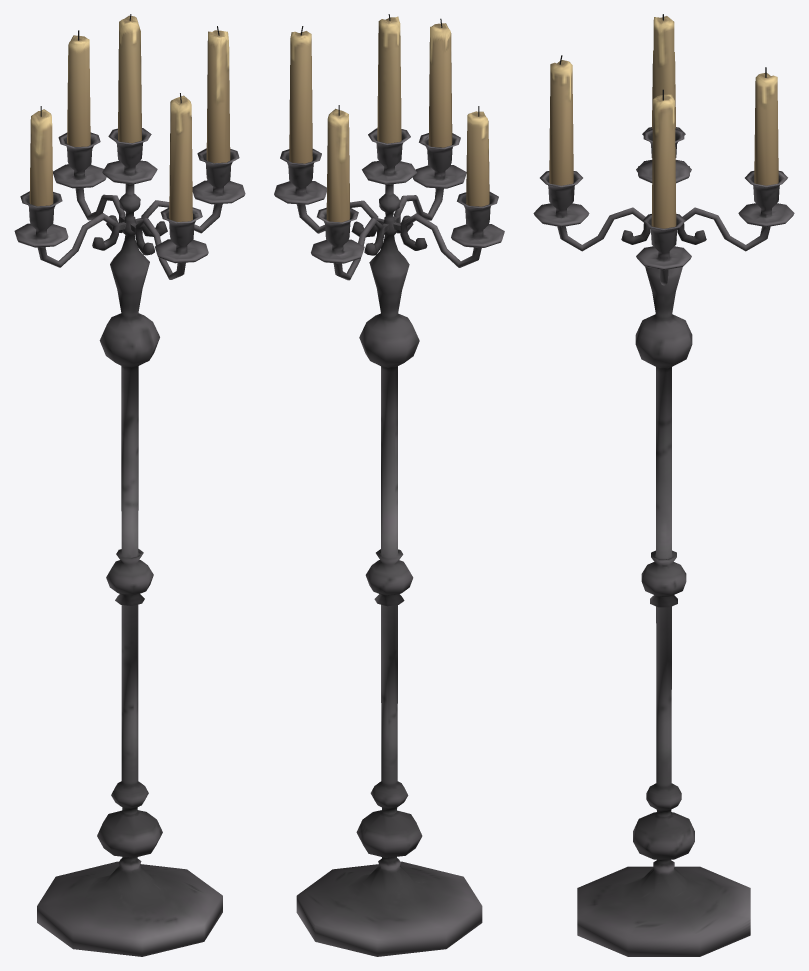
Rendered from Candlestick_big.fbx.
The picture shows the model from 3 angles, left to right: view 1: azimuth 30°, elevation 25°; view 2: azimuth 150°, elevation 25°; view 3: azimuth 270°, elevation 25°; orthographic projection.
Visible parts, largest first — view 1: высокий подсвечник; view 2: высокий подсвечник; view 3: высокий подсвечник.
Boxes of the visible parts, x1,y1,x2,y2 form: высокий подсвечник: (14,14,245,956); высокий подсвечник: (274,14,504,956); высокий подсвечник: (533,14,794,956).
Bounding box in the file's own units: 43.91 × 168 × 43.91.
3 materials, 2 textured.
